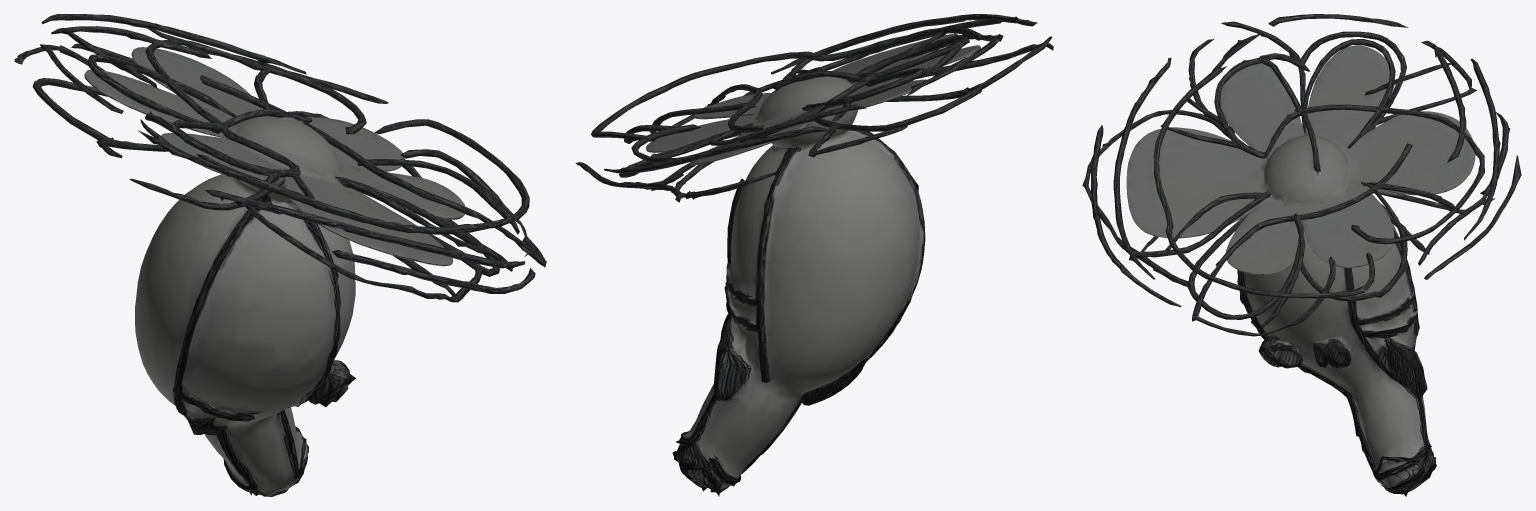
Rendered from supporter-002.glb.
The picture shows the model from 3 angles, left to right: view 1: azimuth 30°, elevation 25°; view 2: azimuth 150°, elevation 25°; view 3: azimuth 270°, elevation 25°; orthographic projection. The views are drawn at different scales.
Parts seen in each view (by area): view 1: tripo_node_529531b6-811e-4a10-bbfc-dd452eb6964b; view 2: tripo_node_529531b6-811e-4a10-bbfc-dd452eb6964b; view 3: tripo_node_529531b6-811e-4a10-bbfc-dd452eb6964b.
Part boxes in pixels (x1=…): tripo_node_529531b6-811e-4a10-bbfc-dd452eb6964b: x1=14, y1=14, x2=546, y2=496; tripo_node_529531b6-811e-4a10-bbfc-dd452eb6964b: x1=575, y1=14, x2=1053, y2=496; tripo_node_529531b6-811e-4a10-bbfc-dd452eb6964b: x1=1082, y1=14, x2=1521, y2=496.
Size of the model in its own units: 0.894 by 1 by 1.02.
Materials: 1 (1 with a texture image).
